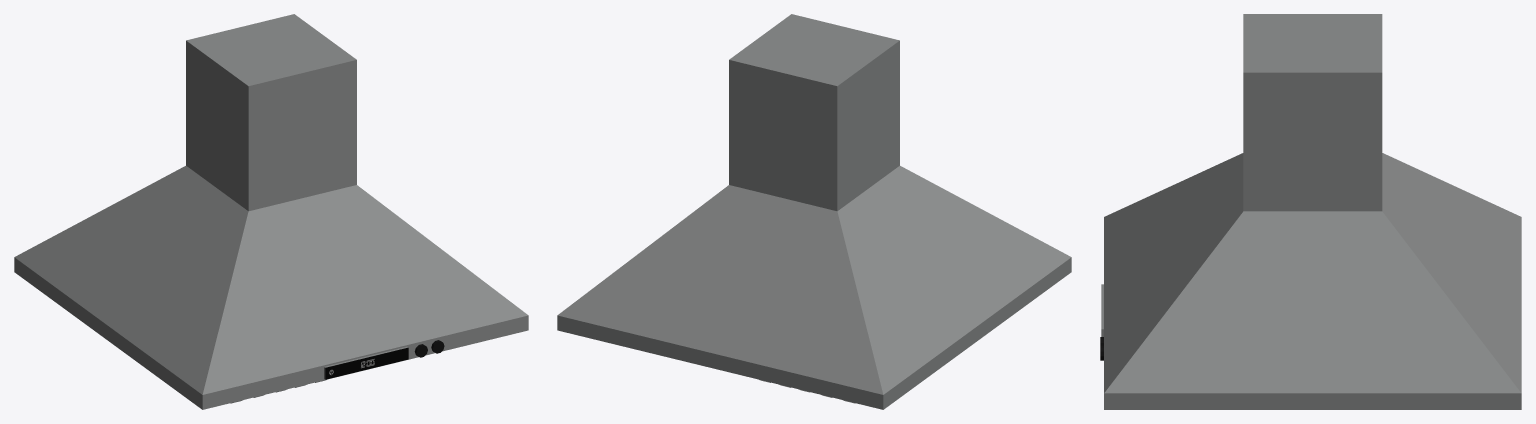
Rendered from ExtractorHood.fbx.
The picture shows the model from 3 angles, left to right: view 1: azimuth 30°, elevation 25°; view 2: azimuth 150°, elevation 25°; view 3: azimuth 270°, elevation 25°; orthographic projection. The views are drawn at different scales.
Visible parts, largest first — view 1: pCylinder3; view 2: pCylinder3; view 3: pCylinder3.
Boxes of the visible parts, box(x1,y1,x2,y2) form: pCylinder3: box(14, 14, 528, 409); pCylinder3: box(557, 14, 1071, 409); pCylinder3: box(1100, 14, 1521, 409).
Size of the model in its own units: 17.85 by 13.31 by 18.01.
